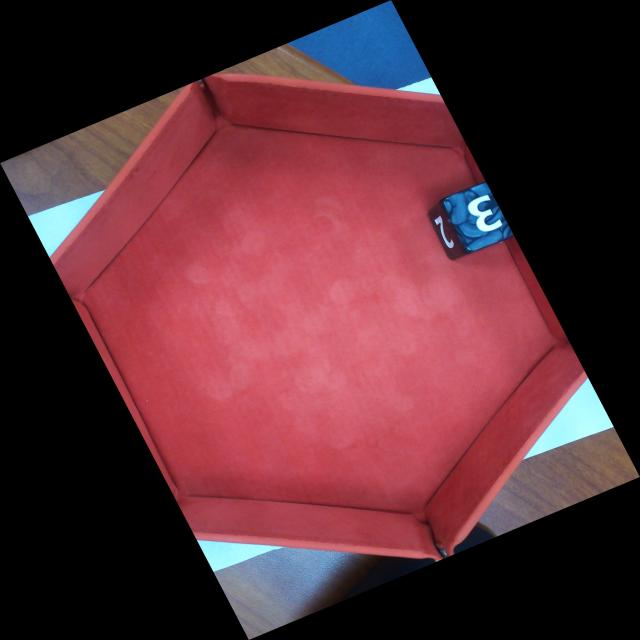dice: (446, 185, 518, 246)
